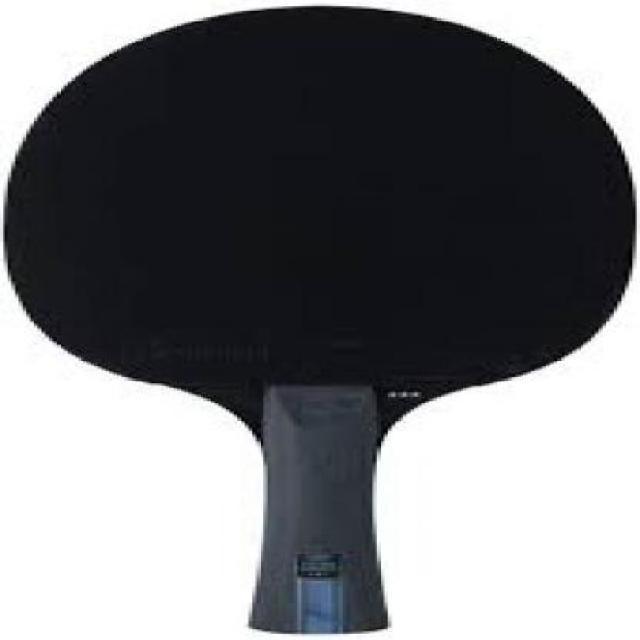table_tennis_racket: (5, 6, 635, 640)
